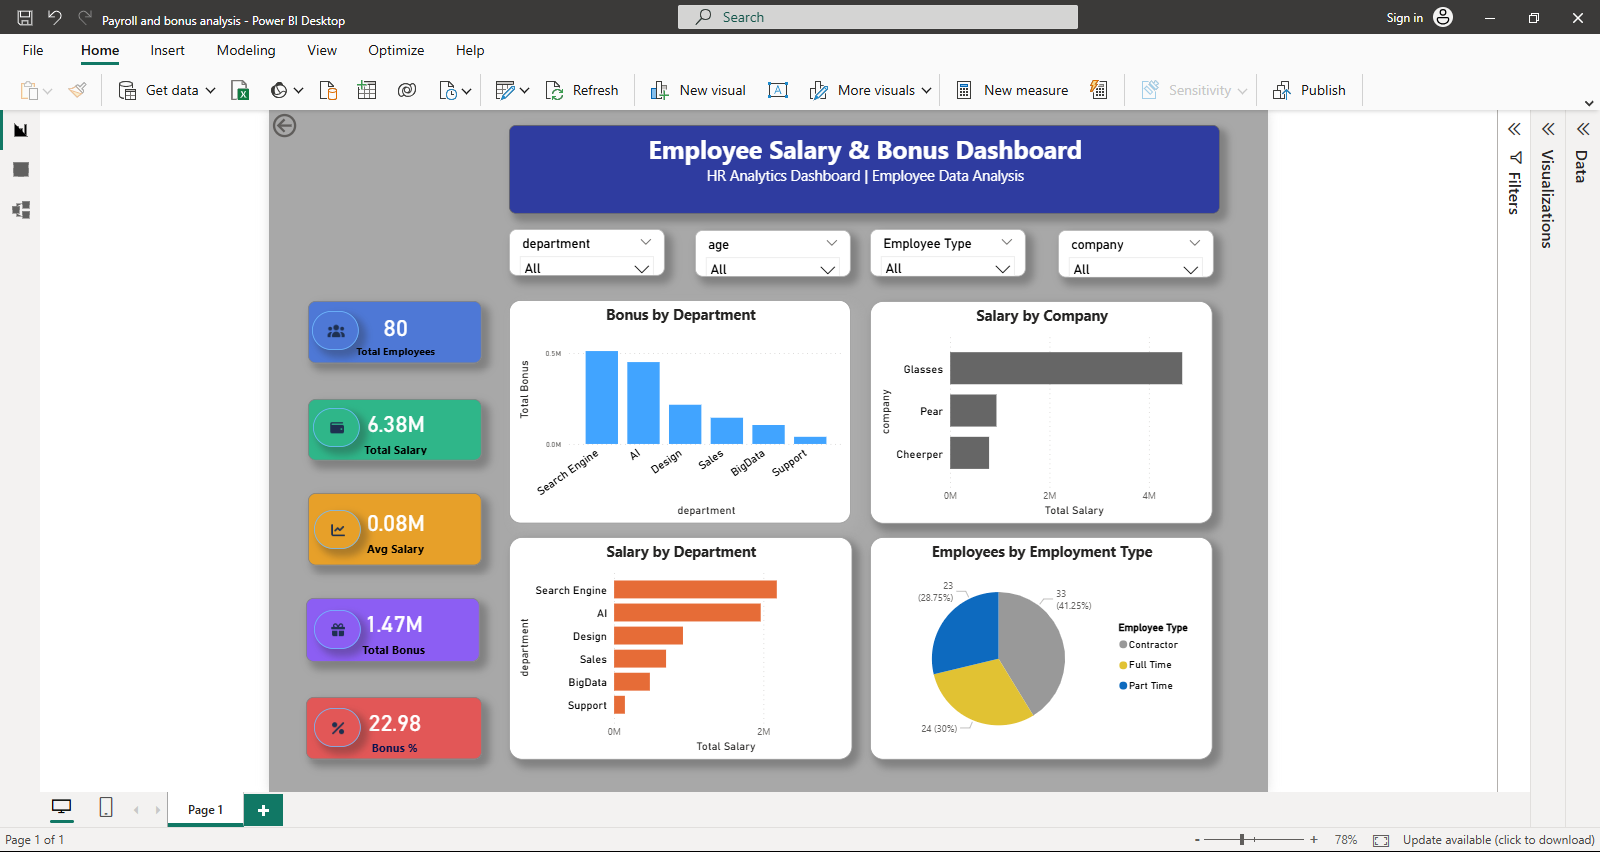

What the dashboard file says about the page in this screenshot:
{"tool":"powerbi","page":{"name":"Page 1","canvas":[1283,876],"ordinal":0},"visuals":[{"type":"card","fields":{"Values":["company_employee_details.Total Employees"]},"box":[49.9,245.3,223.2,80.4],"z":0},{"type":"card","fields":{"Values":["company_employee_details.Total Bonus"]},"box":[47.1,626.5,223.2,81.8],"z":1000},{"type":"card","fields":{"Values":["company_employee_details.Total Salary"]},"box":[49.9,371.5,223.2,79],"z":2000},{"type":"actionButton","box":[0,0,100,40],"z":3000},{"type":"card","fields":{"Values":["company_employee_details.Avg Salary"]},"box":[49.9,492.1,223.2,92.9],"z":4000},{"type":"card","fields":{"Values":["company_employee_details.Bonus %"]},"box":[47.1,754,225.9,80.4],"z":5000},{"type":"clusteredBarChart","title":"Salary by Department","fields":{"Y":["company_employee_details.Total Salary"],"Category":["company_employee_details.department"]},"box":[307.7,548.9,440.8,285.5],"z":6000},{"type":"clusteredColumnChart","title":"Bonus by Department","fields":{"Category":["company_employee_details.department"],"Y":["company_employee_details.Total Bonus"]},"box":[307.7,243.9,439.4,286.9],"z":7000},{"type":"clusteredBarChart","title":"Salary by Company","fields":{"Category":["company_employee_details.company"],"Y":["company_employee_details.Total Salary"]},"box":[772.1,245.8,440.1,285.7],"z":8000},{"type":"pieChart","title":"Employees by Employment Type","fields":{"Category":["company_employee_details.Employee Type"],"Y":["CountNonNull(company_employee_details.full_time)"]},"box":[772.1,548.2,440.1,285.7],"z":9000},{"type":"textbox","box":[307.7,19.4,913.4,113.7],"z":10000},{"type":"slicer","fields":{"Values":["company_employee_details.department"]},"box":[307.7,152.5,199.6,59.6],"z":11000},{"type":"slicer","fields":{"Values":["company_employee_details.company"]},"box":[1013.2,153.9,199.6,61],"z":12000},{"type":"slicer","fields":{"Values":["company_employee_details.age"]},"box":[547.5,153.9,199.6,59.6],"z":13000},{"type":"slicer","fields":{"Values":["company_employee_details.Employee Type"]},"box":[772,152.5,199.6,61],"z":14000},{"type":"image","box":[55.4,257.8,60,50],"z":15000},{"type":"image","box":[58.2,641.8,59.6,49.9],"z":16000},{"type":"image","box":[58.2,767.9,60,50],"z":17000},{"type":"image","box":[56.8,382.6,60,50],"z":18000},{"type":"image","box":[58.2,514.2,59.6,49.9],"z":19000}]}

Visuals, with their boxes on the page's 1283x876 design canvas (x1, y1, x2, y2). These are canvas units, not pixel positions in the 1600x852 screenshot, which may show the page scaled, cropped or inside an application window:
card - company_employee_details.Total Employees: BBox(50, 245, 273, 326)
card - company_employee_details.Total Bonus: BBox(47, 626, 270, 708)
card - company_employee_details.Total Salary: BBox(50, 372, 273, 450)
actionButton: BBox(0, 0, 100, 40)
card - company_employee_details.Avg Salary: BBox(50, 492, 273, 585)
card - company_employee_details.Bonus %: BBox(47, 754, 273, 834)
"Salary by Department" clusteredBarChart: BBox(308, 549, 748, 834)
"Bonus by Department" clusteredColumnChart: BBox(308, 244, 747, 531)
"Salary by Company" clusteredBarChart: BBox(772, 246, 1212, 532)
"Employees by Employment Type" pieChart: BBox(772, 548, 1212, 834)
textbox: BBox(308, 19, 1221, 133)
slicer - company_employee_details.department: BBox(308, 152, 507, 212)
slicer - company_employee_details.company: BBox(1013, 154, 1213, 215)
slicer - company_employee_details.age: BBox(548, 154, 747, 214)
slicer - company_employee_details.Employee Type: BBox(772, 152, 972, 214)
image: BBox(55, 258, 115, 308)
image: BBox(58, 642, 118, 692)
image: BBox(58, 768, 118, 818)
image: BBox(57, 383, 117, 433)
image: BBox(58, 514, 118, 564)
